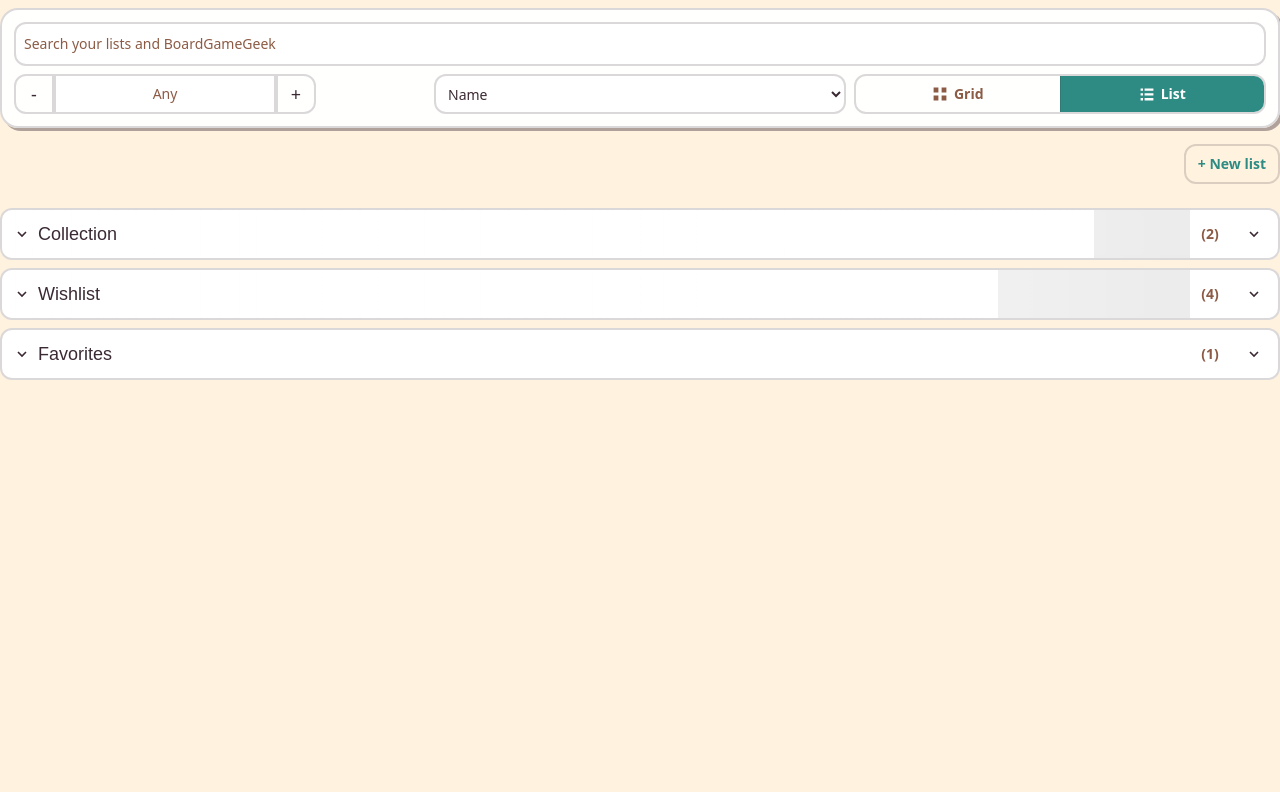
Test: PersonalCollection lists › keeps wishlist priority first, sorts within priorities, and saves manual priority edits
Later steps or results of the test are not shown.
Click the button with aria-label "Wishlist (4)" at (596, 294), box [2,270,1190,318]
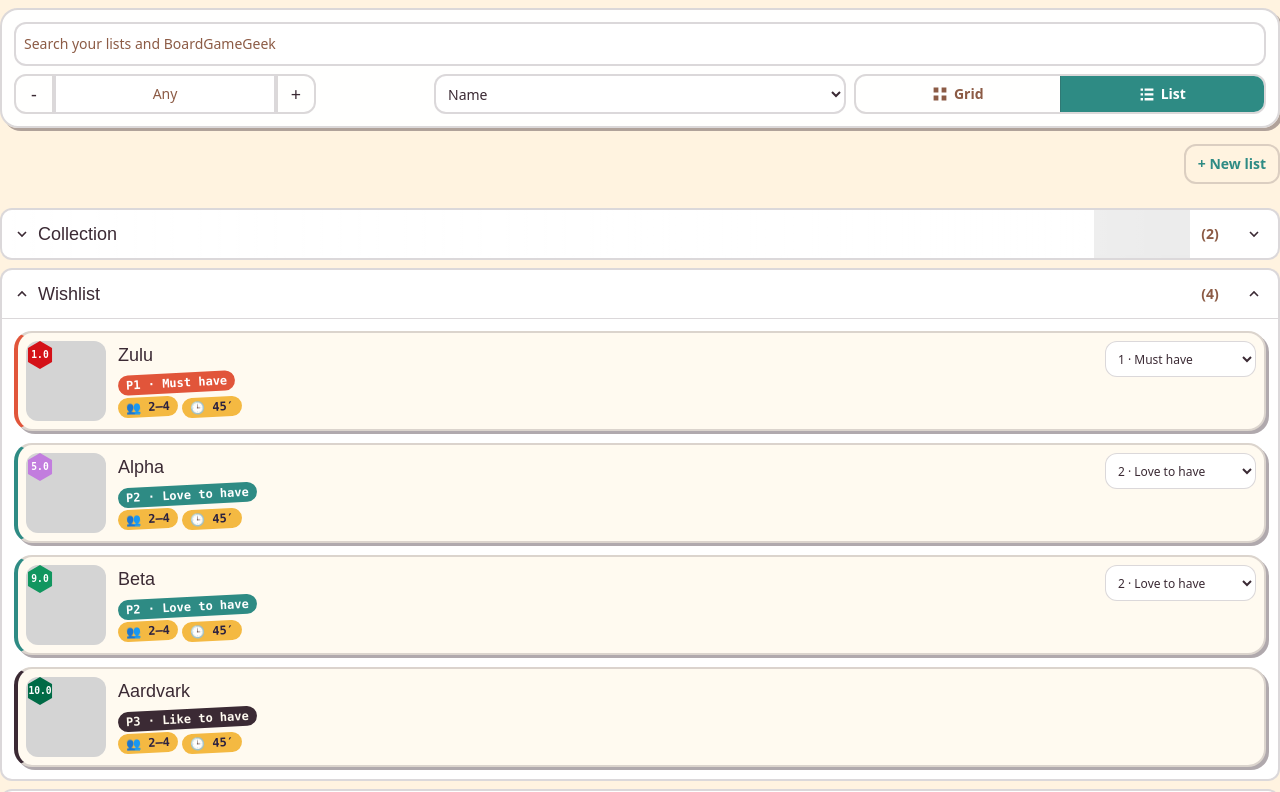
Select "BGG rating" in the dropdown named "Sort by" at (640, 94), box [434,74,846,114]
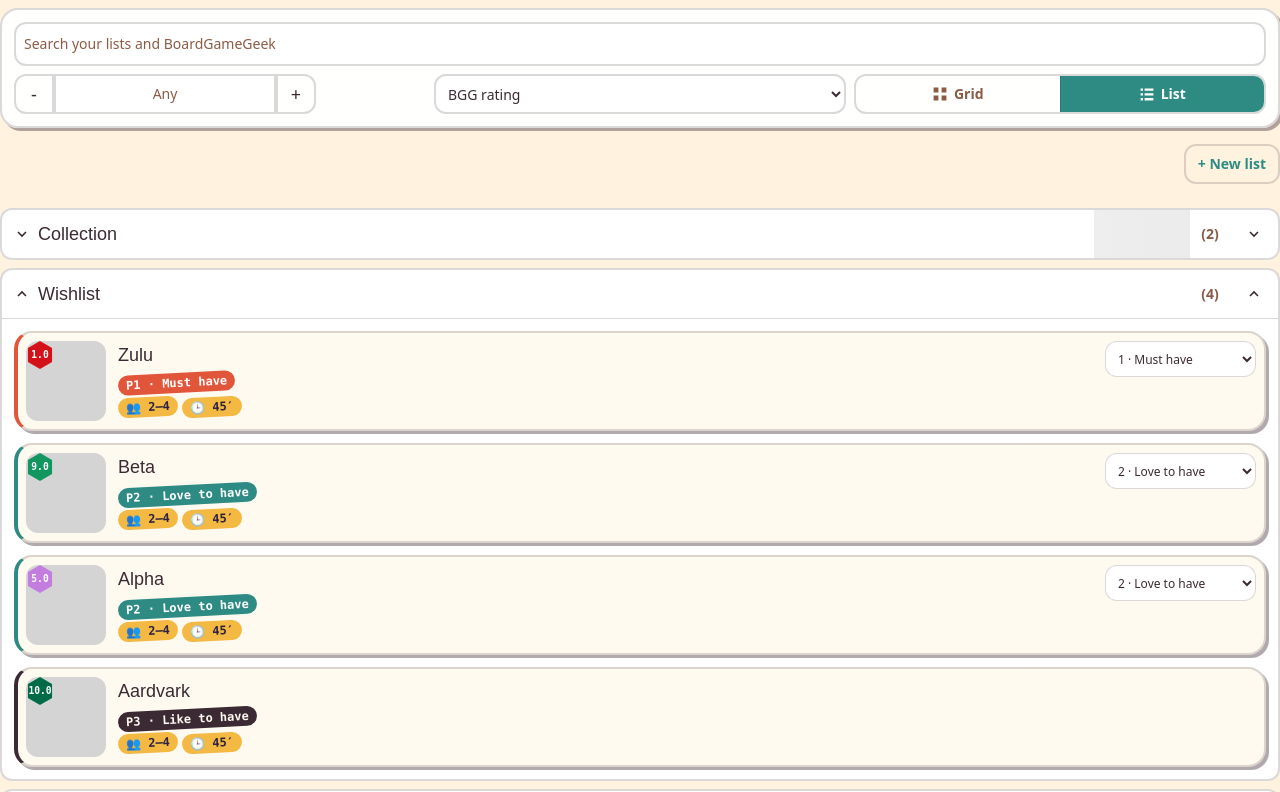
Now the text "P1 · Must have" is shown, box [118,370,236,396]
